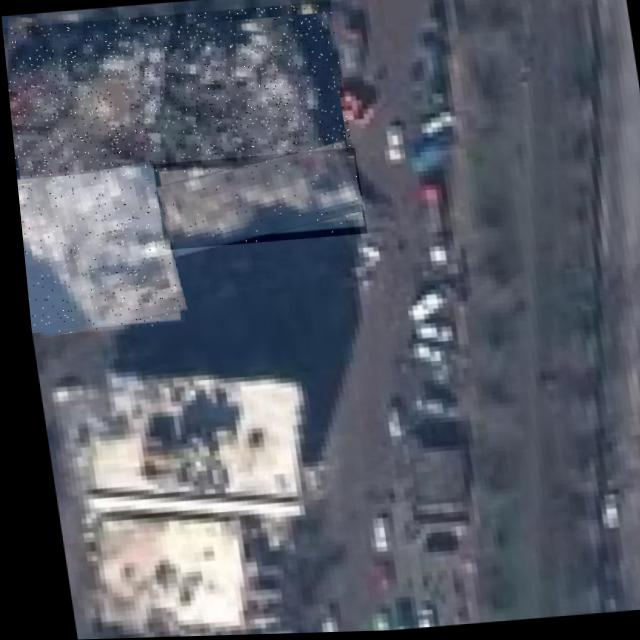Rubble: (1, 3, 351, 190), (13, 165, 179, 336), (149, 149, 363, 251)
